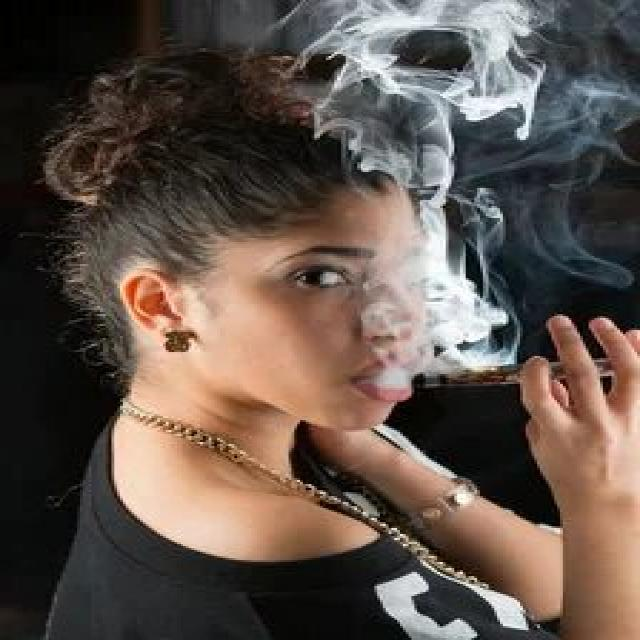cigarette: (397, 350, 640, 394)
